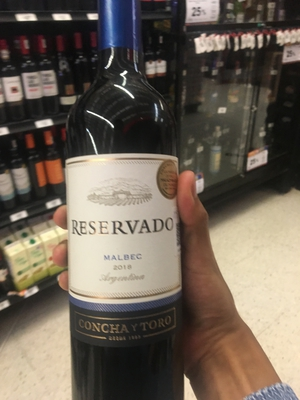reservado malbec: (58, 7, 195, 400)
